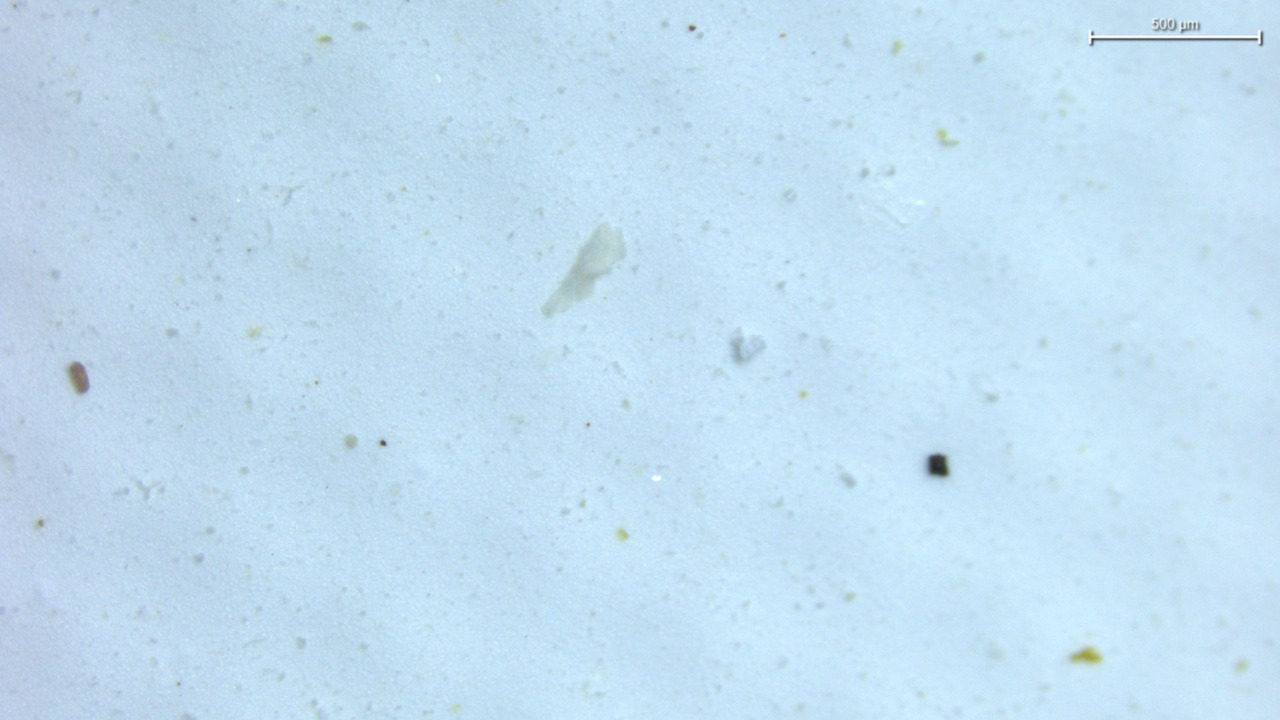microplastic_fragment: (542, 222, 626, 317), (729, 327, 765, 365)
